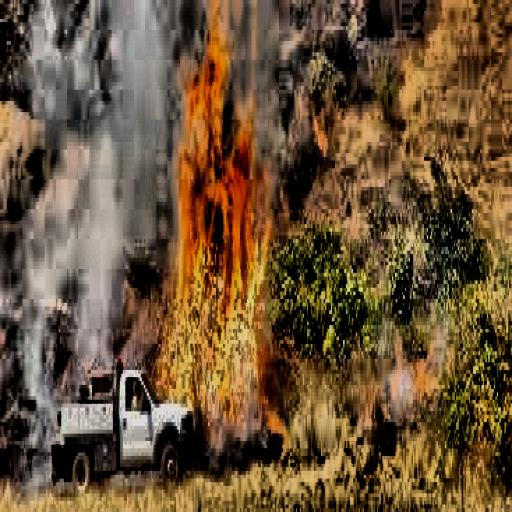fire: (145, 11, 286, 467), (357, 332, 447, 448), (300, 98, 350, 180)
